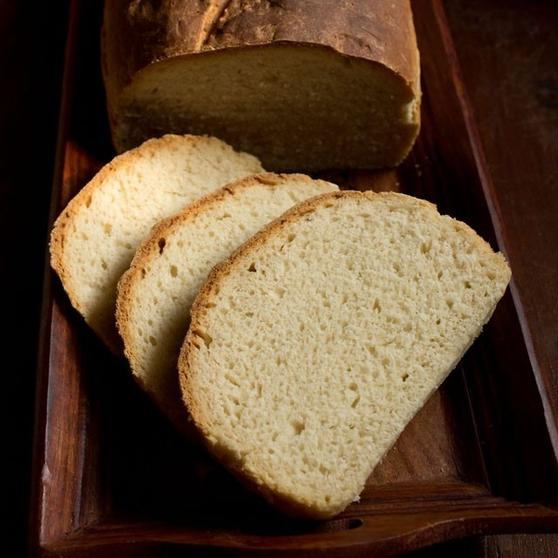white_bread: (99, 3, 459, 194)
